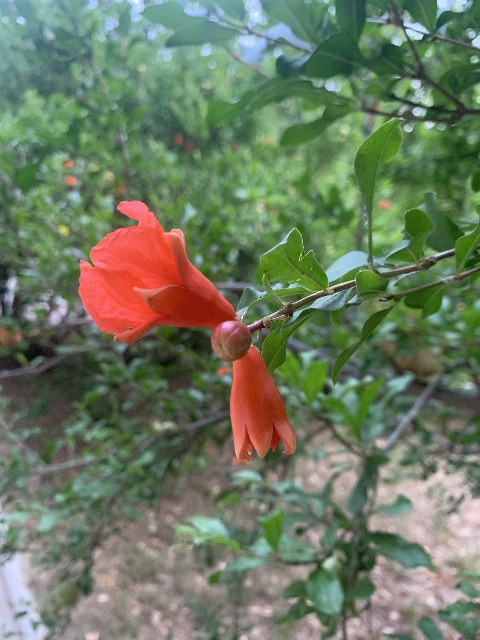bud: (211, 320, 251, 360)
flower: (77, 200, 239, 346), (227, 345, 296, 461)
